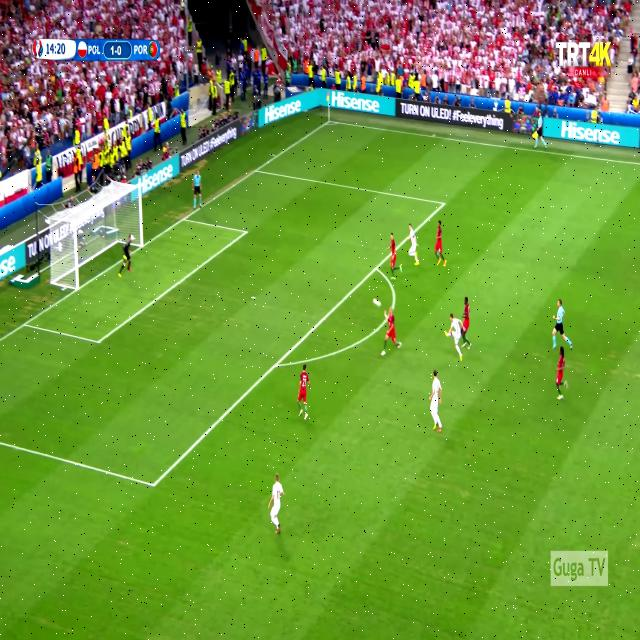Ball: (370, 293, 382, 311)
GoalKeeper: (118, 231, 134, 277)
TEAM 1: (383, 304, 406, 360), (554, 349, 572, 414), (297, 360, 312, 433), (385, 229, 404, 282), (432, 222, 448, 268), (461, 294, 473, 350)
TEAM 2: (268, 476, 288, 540), (428, 368, 446, 436), (444, 309, 465, 360), (407, 220, 420, 270)
